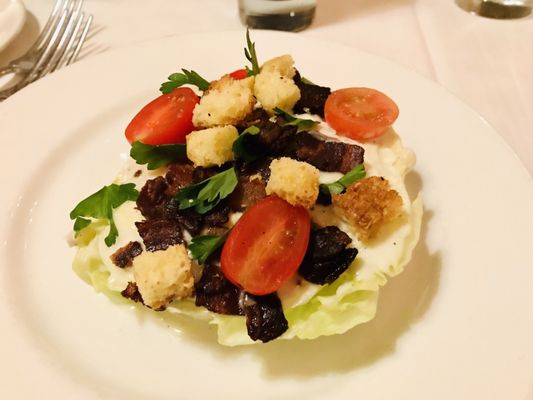burger: (0, 0, 93, 104)
pizza: (238, 0, 318, 33), (453, 0, 533, 21)
